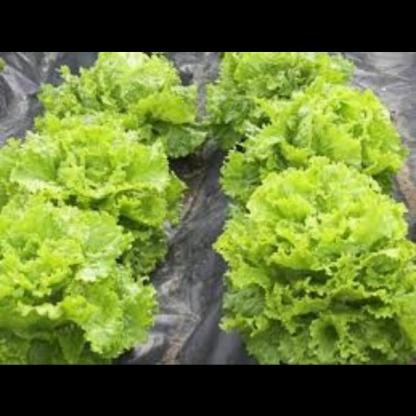salad: (206, 51, 415, 364), (0, 51, 204, 363)
